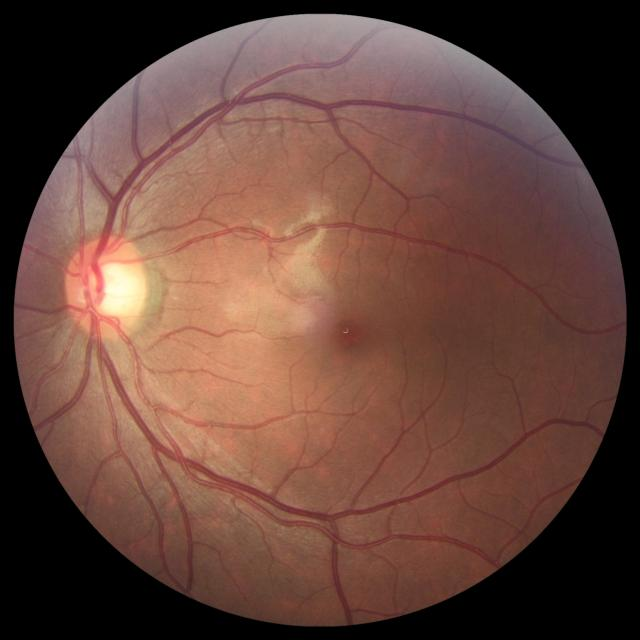OC: (84, 259, 140, 316)
OD: (62, 235, 149, 338)
